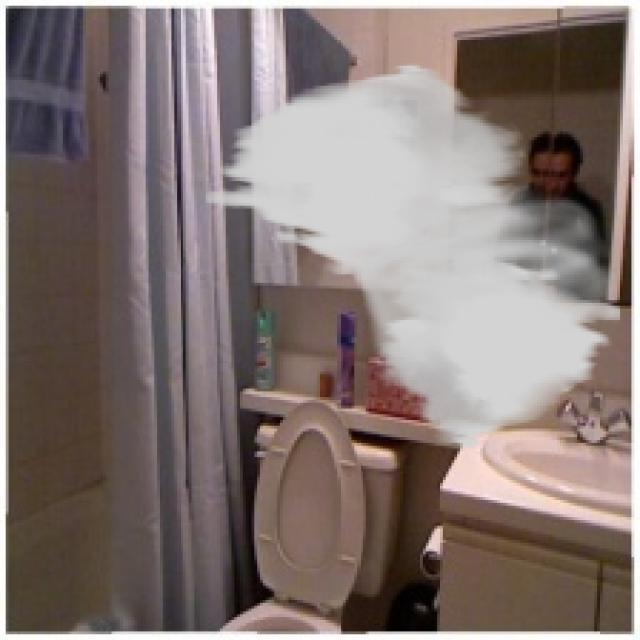Smoke: (206, 62, 623, 452)
